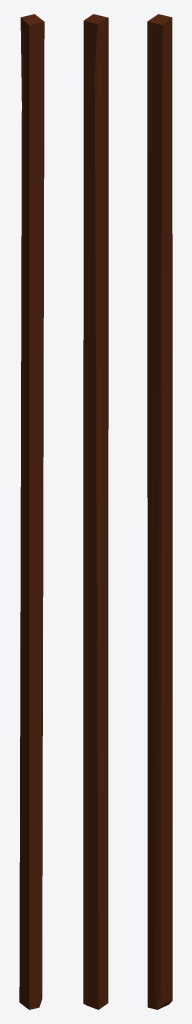
Rendered from SM_trebuchet_arm.fbx.
The picture shows the model from 3 angles, left to right: view 1: azimuth 30°, elevation 25°; view 2: azimuth 150°, elevation 25°; view 3: azimuth 330°, elevation 25°; orthographic projection.
Visible parts, largest first — view 1: Object211; view 2: Object211; view 3: Object211.
Boxes of the visible parts, box(x1,y1,x2,y2) form: Object211: box(19, 14, 44, 1009); Object211: box(83, 14, 108, 1009); Object211: box(147, 14, 172, 1009).
Size of the model in its own units: 6.93 by 8.53 by 430.
